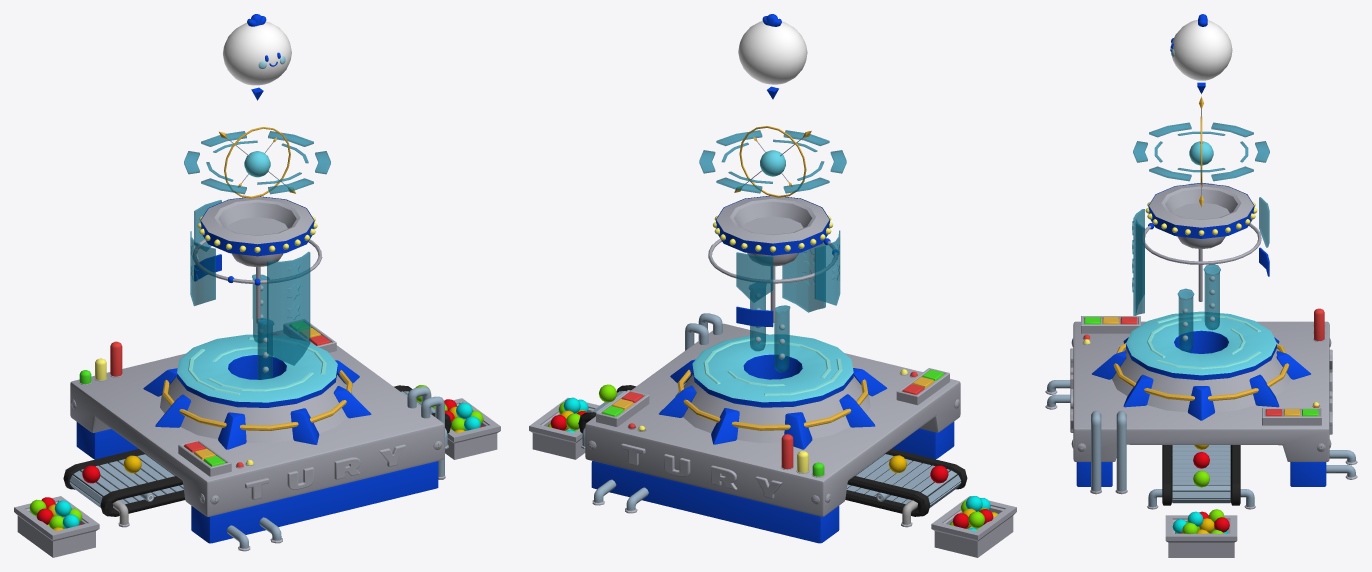
Rendered from tury_lab.fbx.
3 renders of one model, left to right at view 1: azimuth 30°, elevation 25°; view 2: azimuth 150°, elevation 25°; view 3: azimuth 270°, elevation 25°, orthographic. The views are drawn at different scales.
Parts seen in each view (by area): view 1: BODY_deck2, BODY2_001, BODY_deck, BODY2_002, BODY3_003, BODY3_005, Tury_head, RAIL_1.002, RAIL_2.002, Basket_1, BODY4_005, Basket_2 (+11 smaller); view 2: BODY_deck2, BODY2_001, BODY_deck, BODY2_002, BODY3_003, Tury_head, Basket_1, RAIL_1.002, RAIL_2.002, BODY3_005, BODY4_005, Basket_2 (+13 smaller); view 3: BODY_deck2, BODY2_001, BODY2_002, BODY3_003, RAIL_2.001, Tury_head, Basket_2, BODY4_005, BODY1_DECO_003, BODY_deck, RAIL_1.001, BODY3_005 (+12 smaller).
Part boxes in pixels (x1,y1,x2,y2): BODY_deck2: (70, 330, 444, 516); BODY2_001: (143, 355, 371, 449); BODY_deck: (76, 422, 438, 543); BODY2_002: (177, 334, 337, 402); BODY3_003: (197, 196, 317, 267); BODY3_005: (267, 251, 310, 365); Tury_head: (222, 14, 291, 85); RAIL_1.002: (63, 449, 185, 516); RAIL_2.002: (69, 454, 183, 507); Basket_1: (14, 496, 99, 557); BODY4_005: (184, 131, 330, 194); Basket_2: (445, 398, 500, 459); BODY_deck2: (585, 323, 960, 516); BODY2_001: (659, 354, 887, 449); BODY_deck: (591, 421, 954, 543); BODY2_002: (692, 334, 853, 402); BODY3_003: (713, 195, 832, 266); Tury_head: (738, 14, 807, 84); Basket_1: (931, 496, 1016, 557); RAIL_1.002: (845, 449, 967, 516); RAIL_2.002: (846, 454, 961, 507); BODY3_005: (782, 242, 825, 312); BODY4_005: (699, 130, 846, 193); Basket_2: (529, 398, 599, 459); BODY_deck2: (1070, 321, 1332, 461); BODY2_001: (1092, 330, 1310, 420); BODY2_002: (1126, 311, 1276, 375); BODY3_003: (1145, 183, 1257, 249); RAIL_2.001: (1172, 445, 1230, 503); Tury_head: (1170, 14, 1232, 80); Basket_2: (1165, 515, 1237, 557); BODY4_005: (1133, 122, 1269, 181); BODY1_DECO_003: (1090, 410, 1127, 494); BODY_deck: (1076, 462, 1326, 486); RAIL_1.001: (1162, 445, 1240, 505); BODY3_005: (1132, 209, 1144, 315).
Size of the model in its own units: 968 by 982 by 628.
